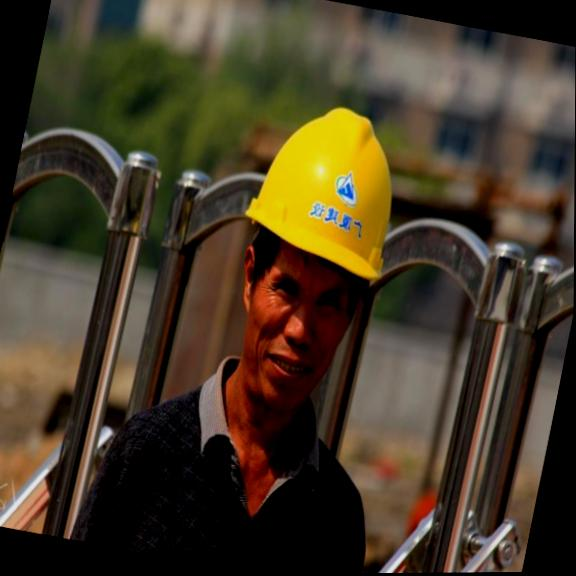no_safety_vest: (62, 348, 401, 576)
